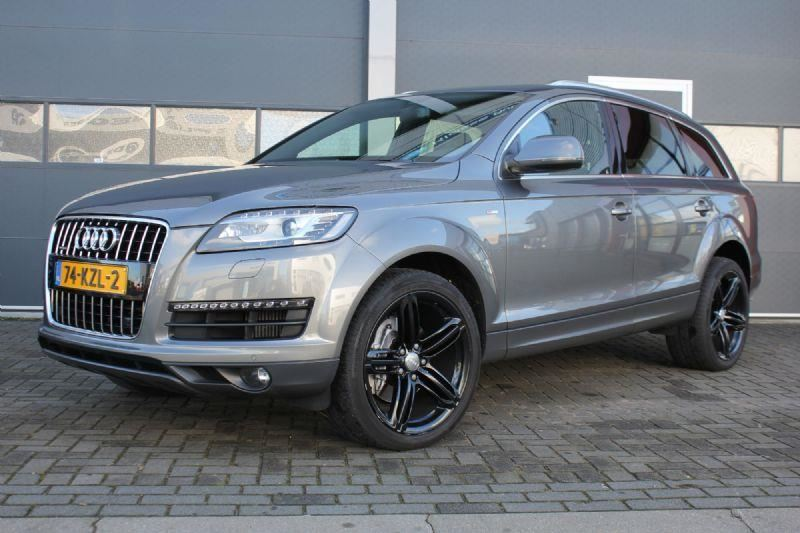kenteken: (48, 257, 127, 297)
